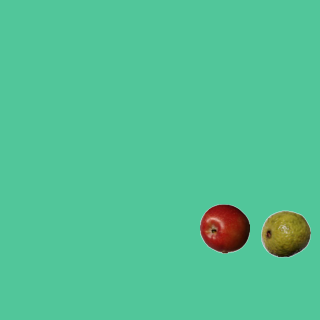Apple Braeburn: (199, 203, 249, 253)
Guava: (260, 208, 310, 258)
